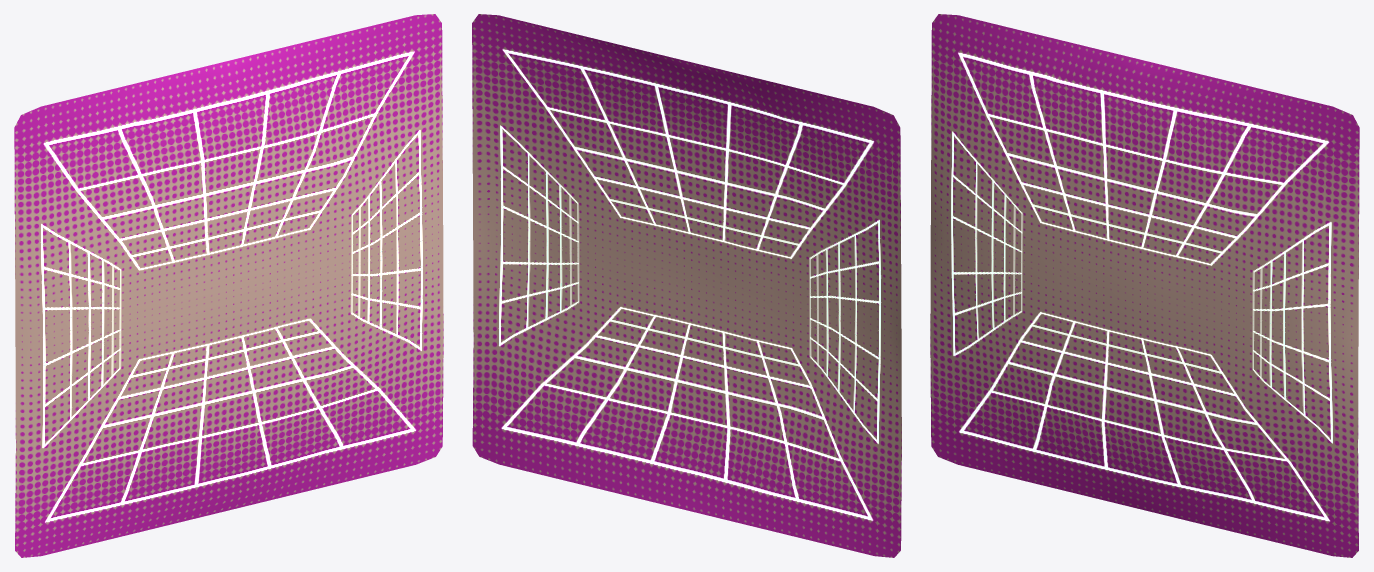
File: Computer_Screen_Art.fbx
3 renders of one model, left to right at view 1: azimuth 30°, elevation 25°; view 2: azimuth 150°, elevation 25°; view 3: azimuth 330°, elevation 25°, orthographic.
Visible parts, largest first — view 1: Computer_Screen; view 2: Computer_Screen; view 3: Computer_Screen.
Boxes of the visible parts, <box> form: Computer_Screen: <box>14,14,443,557</box>; Computer_Screen: <box>472,14,901,557</box>; Computer_Screen: <box>930,14,1359,557</box>.
Size of the model in its own units: 7.41 by 7.44 by 0.2769.
